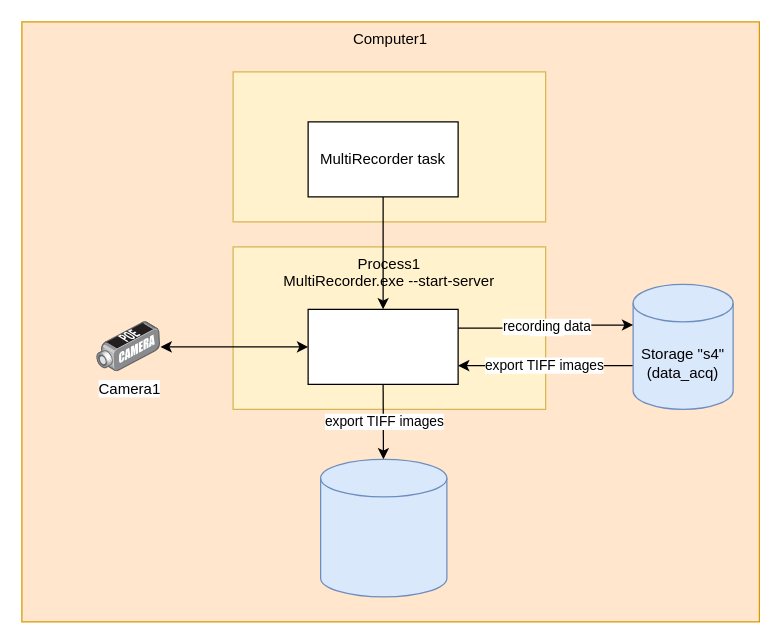
Image size: 781x644. Some labels were removed from this diagram. The shapes that lost their labels are listed below. From the top down, each one's box as (x1, y1, x2, y2) in pixels, then its label:
(232, 71, 546, 222): Process2 MultiRecorder.exe --run sample-multi.xml
(307, 308, 458, 384): Camera Control / server
(319, 458, 447, 597): Storage for TIFF images (outputSample4)
